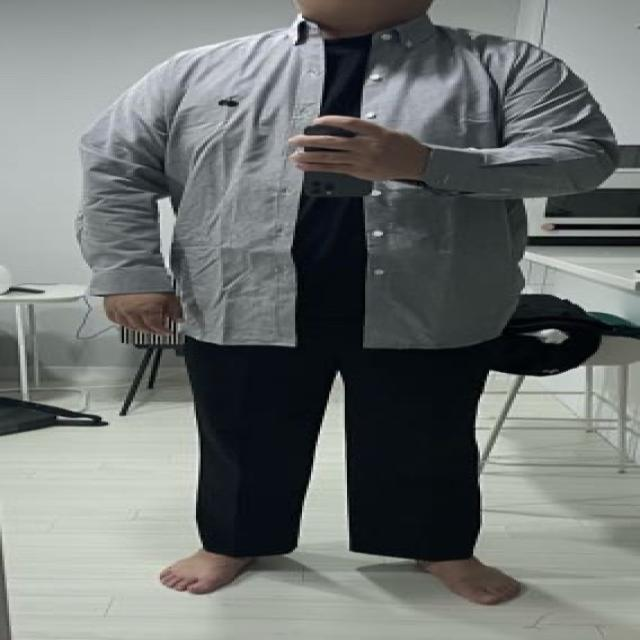shirt: (80, 14, 624, 350)
slacks: (175, 196, 483, 559)
